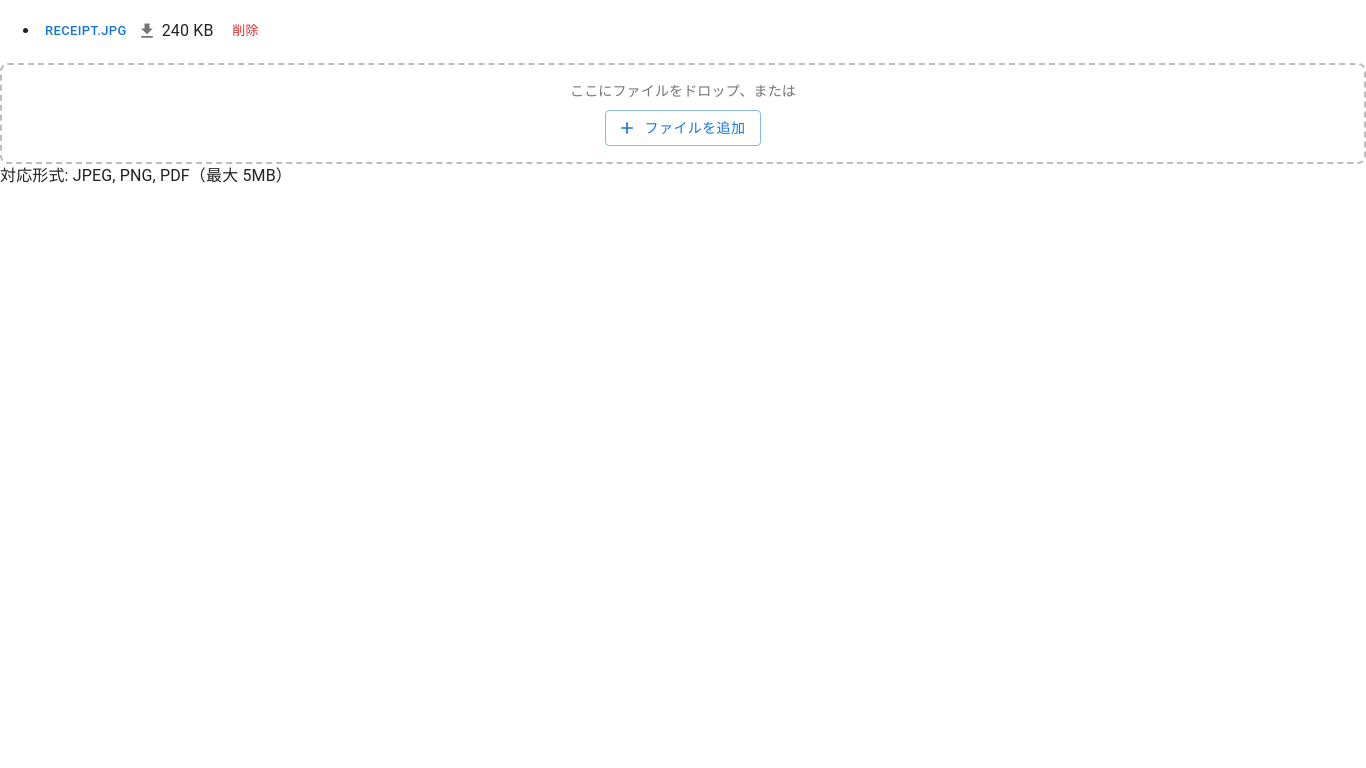
Scenario: AttachmentArea › ATT-FE-054: 削除ボタン押下で確認ダイアログが表示される
# 削除ボタンをクリックする
Click the button with test id "attachment-delete-att-001".
click(246, 31)  # box [214,16,278,47]
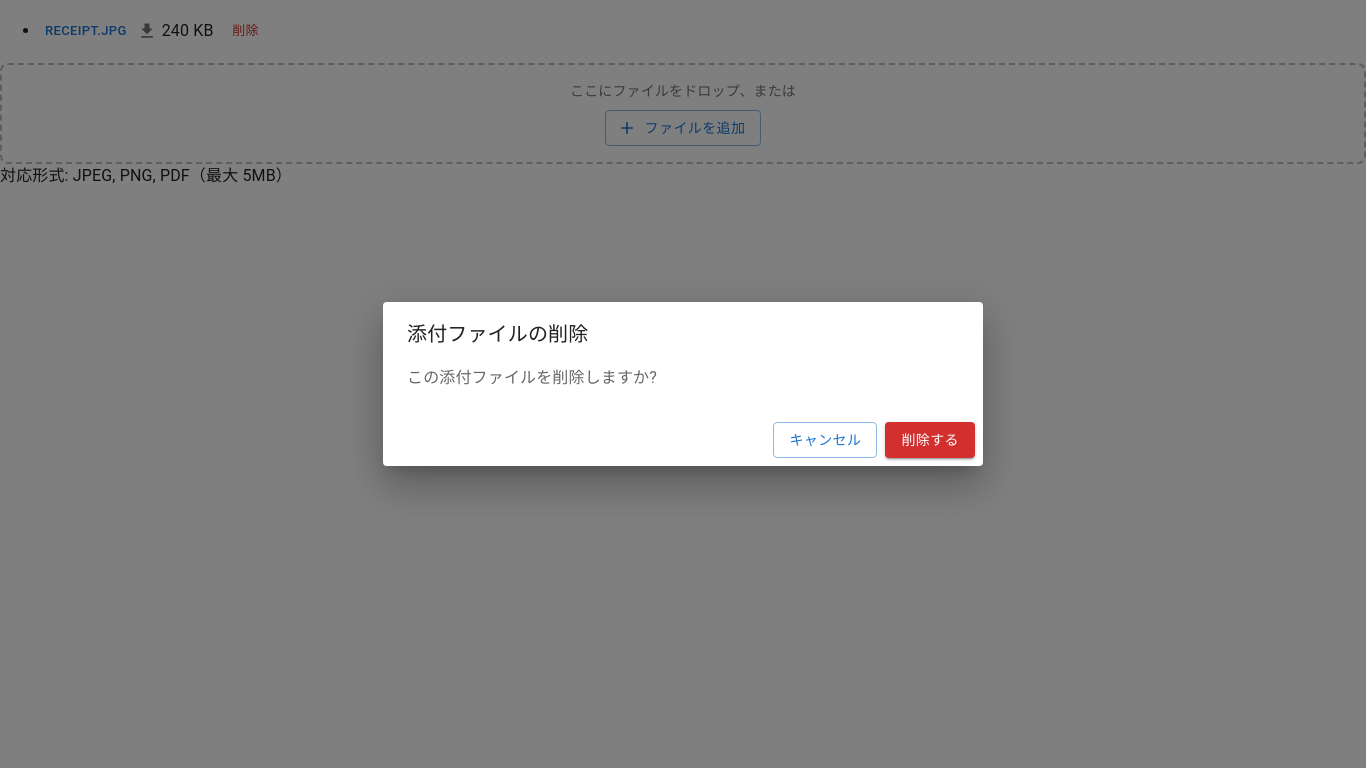
Check: the dialog is shown, box [383,302,983,466]
Check: the text "この添付ファイルを削除しますか?" is shown, box [407,368,657,387]
